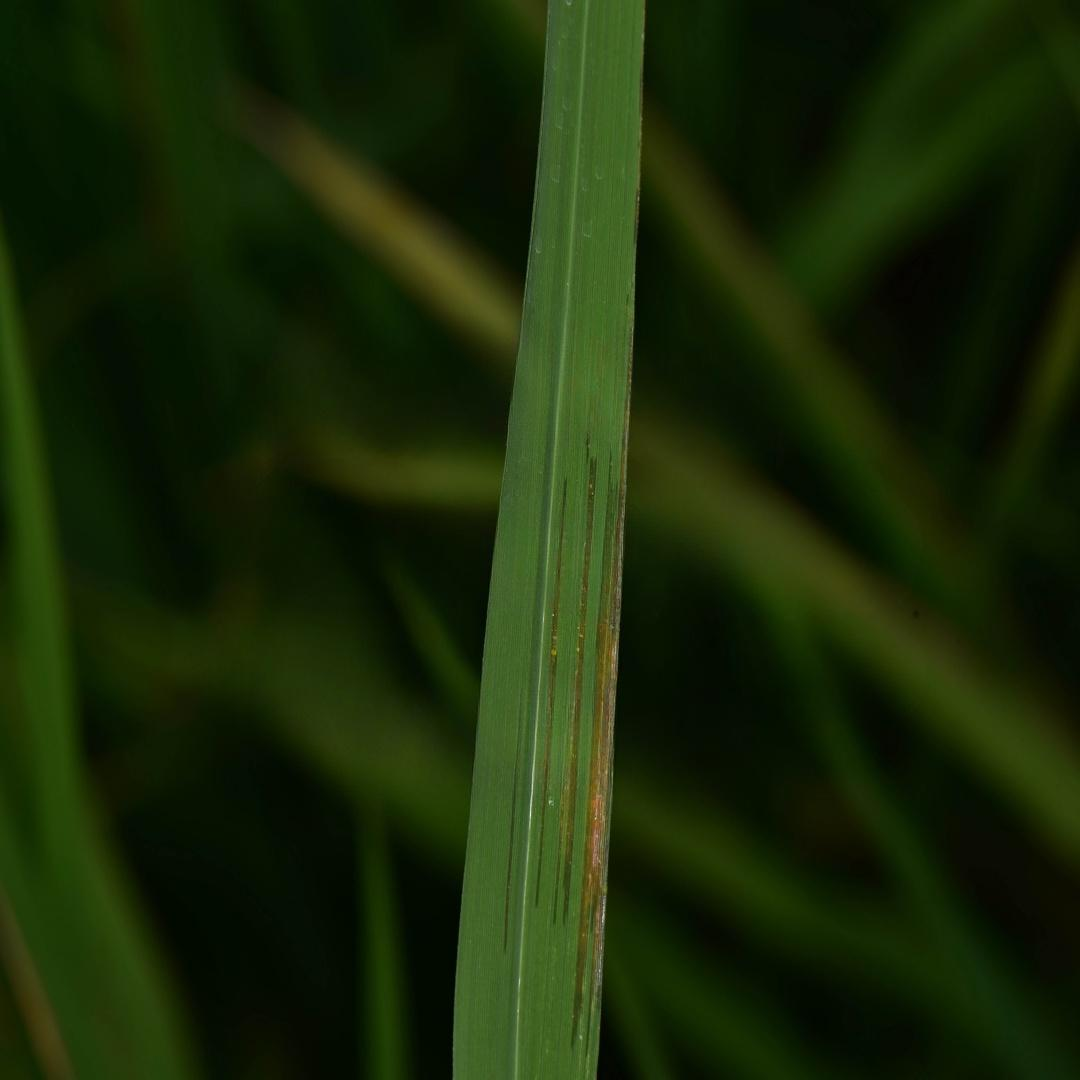BLS: (571, 320, 634, 1058), (553, 456, 597, 927), (535, 477, 567, 907), (504, 687, 523, 952), (586, 433, 590, 465)
LEAF: (454, 0, 645, 1079)
